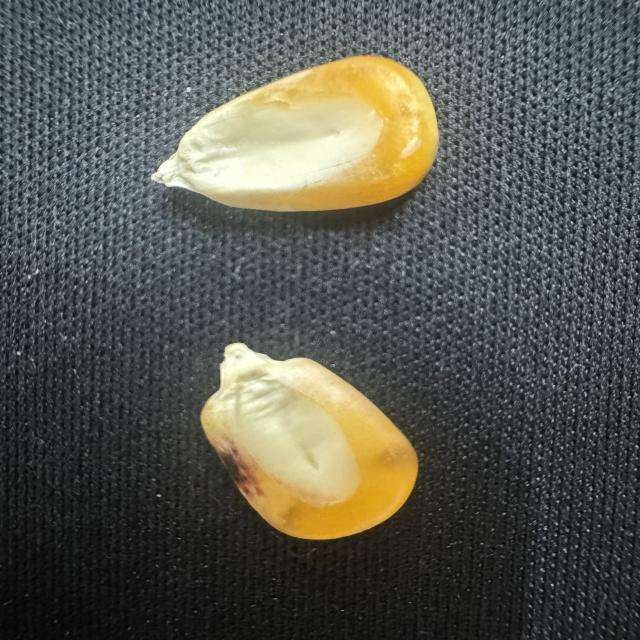Bad-Seed: (193, 333, 426, 544)
Good-Seed: (144, 49, 446, 216)
